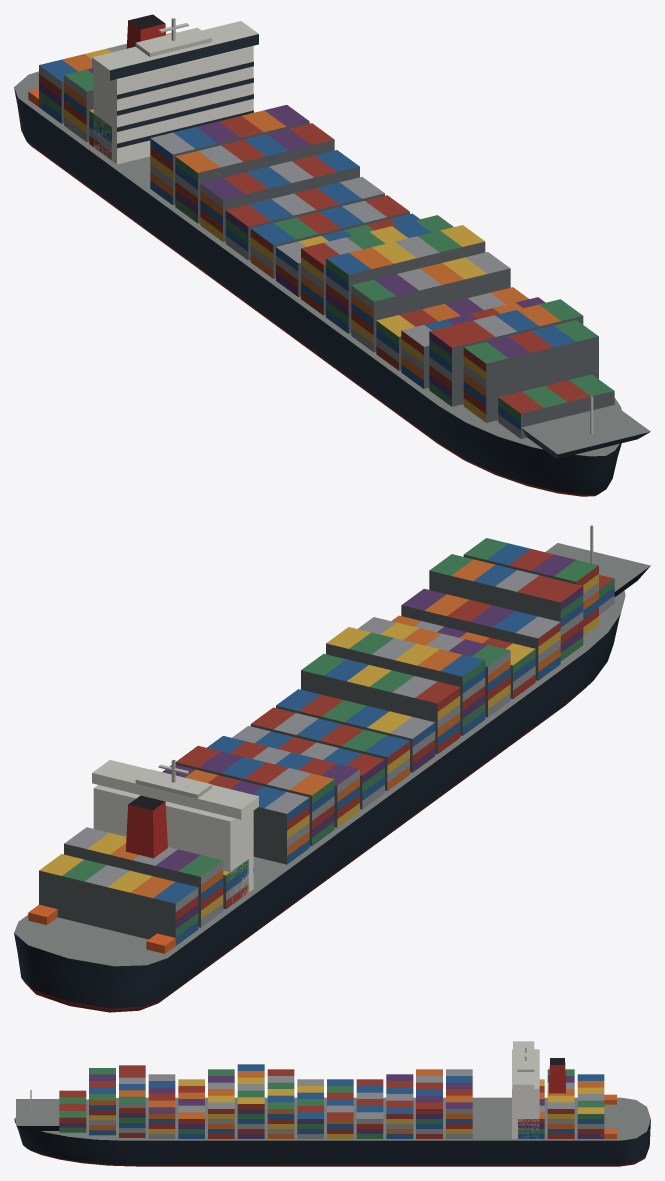
Rendered from tokyo_container_ship.glb.
3 renders of one model, top to bottom at view 1: azimuth 30°, elevation 25°; view 2: azimuth 150°, elevation 25°; view 3: azimuth 270°, elevation 25°, orthographic. The views are drawn at different scales.
Parts seen in each view (by area): view 1: tokyo_container_ship; view 2: tokyo_container_ship; view 3: tokyo_container_ship.
Part boxes in pixels (x1,y1,x2,y2): tokyo_container_ship: (14,14,650,496); tokyo_container_ship: (14,525,650,1012); tokyo_container_ship: (14,1041,650,1166).
Bounding box in the file's own units: 48 × 52 × 300.
Materials: 1 (1 with a texture image).
